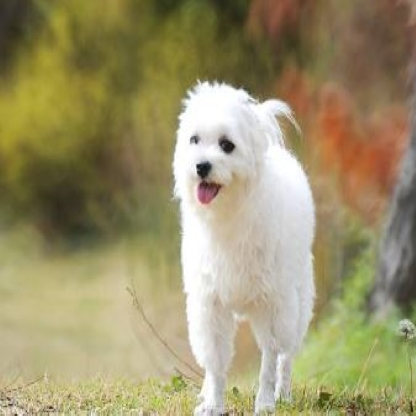maltese: (171, 77, 318, 414)
